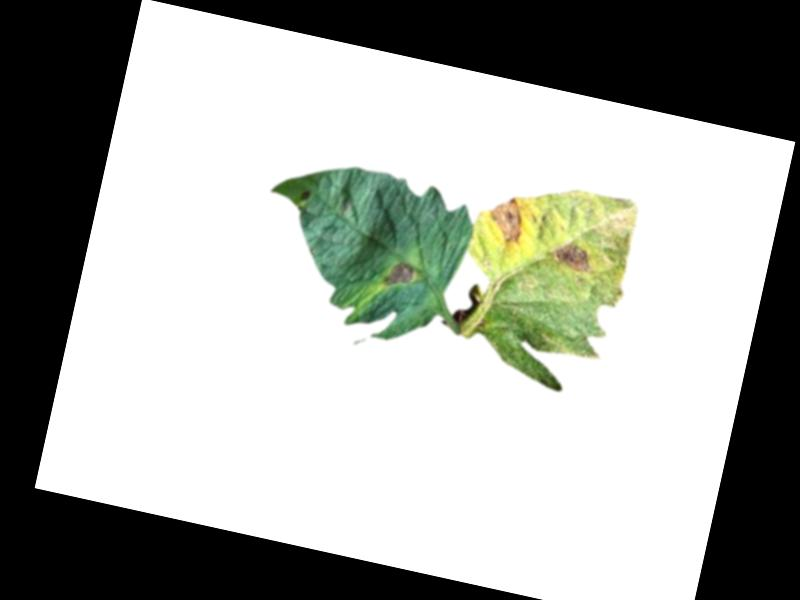Early_blight: (483, 191, 527, 245), (547, 237, 595, 274), (382, 258, 415, 288), (296, 186, 312, 201)
